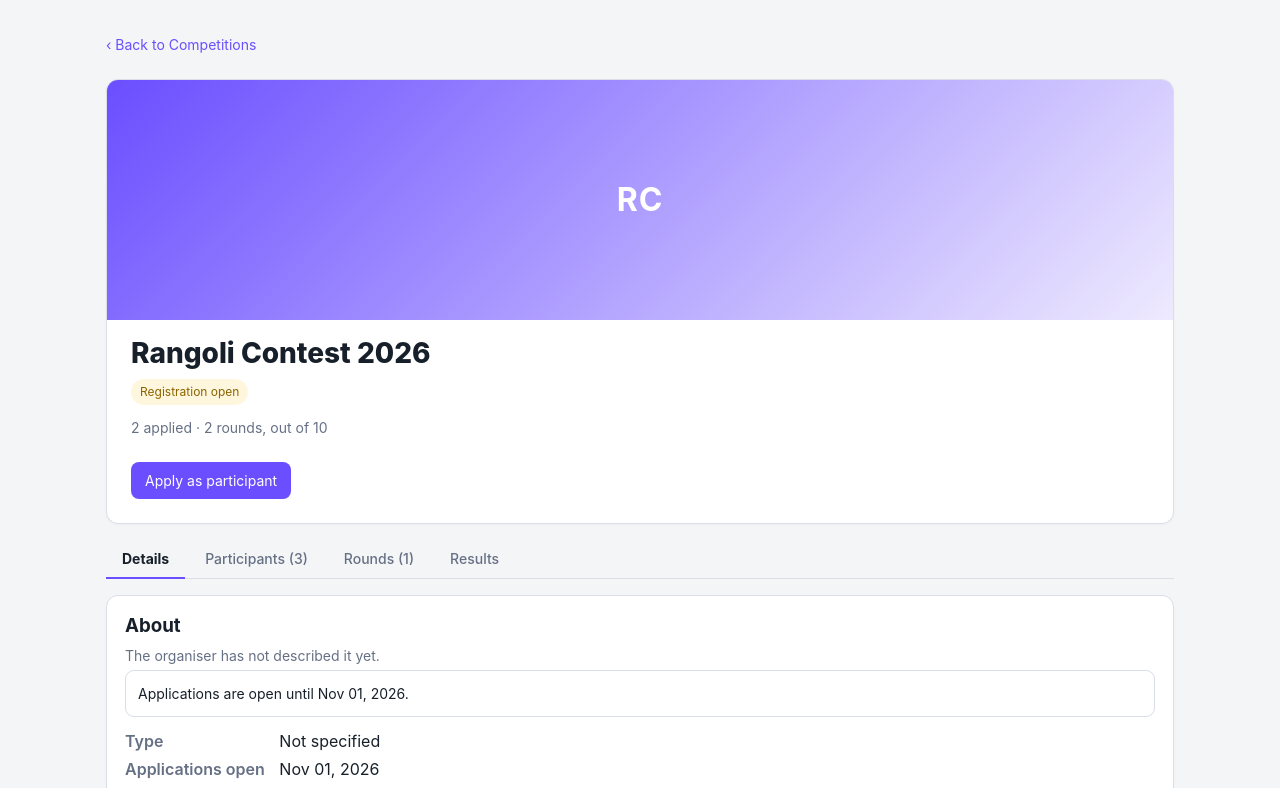
Test: CompetitionDetailComponent › lists who applied on Participants, by name, linked to their profile
Click the tab "Participants (3)" at (256, 560), box [189,540,324,579]
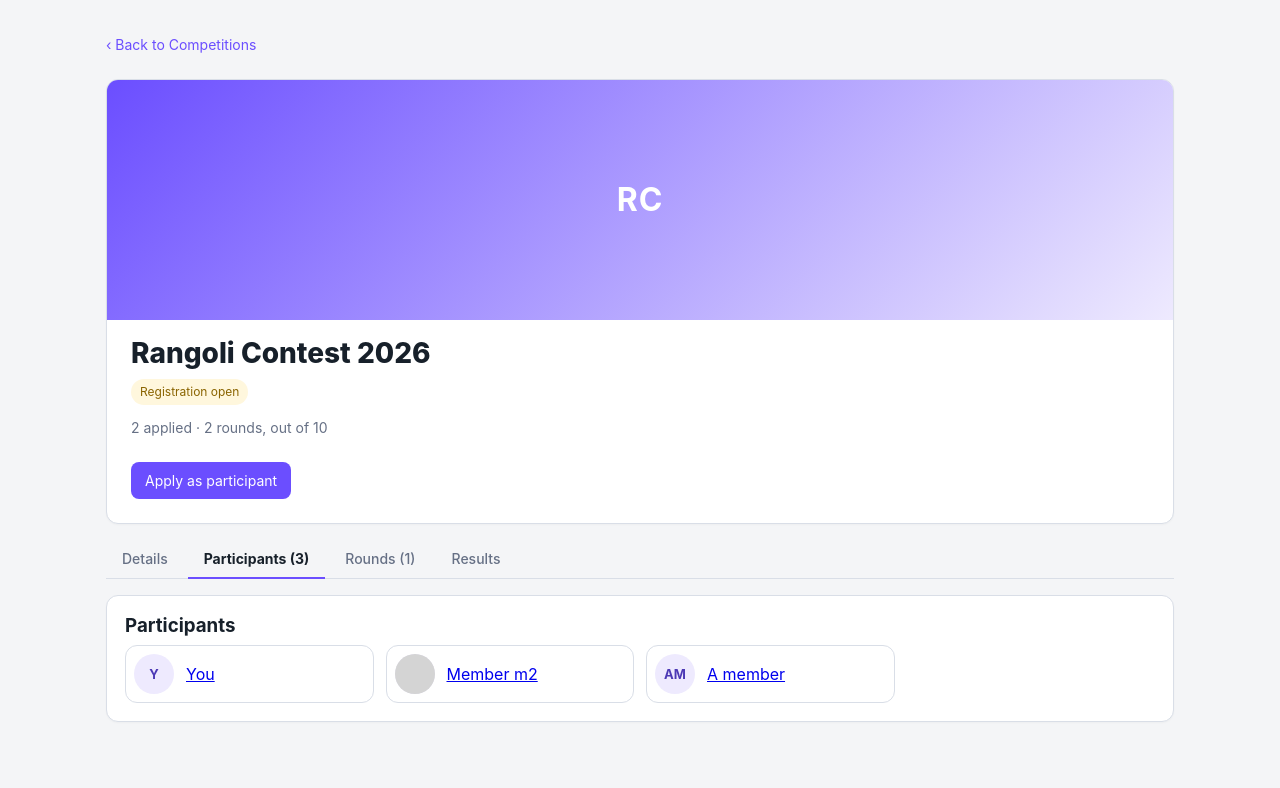
Check: the list item "Y You" is shown, box [125,645,374,703]
Check: the link "Member m2" is shown, box [446,662,538,686]
Check: the list item "AM A member" is shown, box [646,645,894,703]
